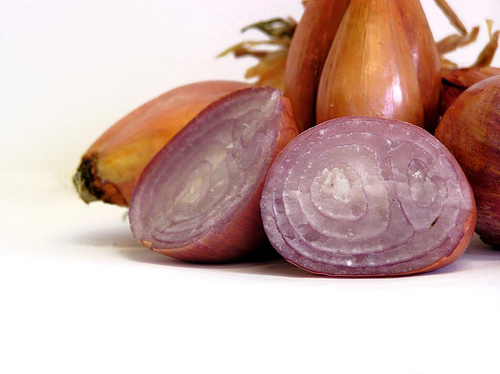onion: (260, 117, 476, 278), (123, 86, 298, 263), (317, 0, 423, 127)
